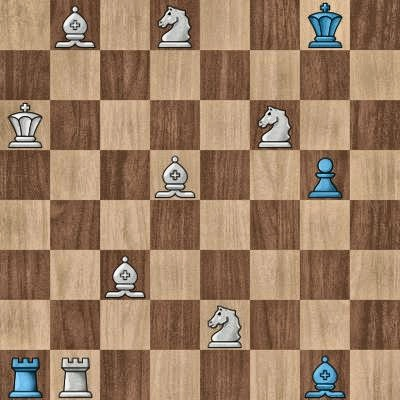black-bishop: (300, 350, 350, 400)
black-king: (300, 0, 350, 50)
black-pawn: (300, 150, 350, 200)
black-rook: (0, 350, 50, 400)
white-bishop: (50, 0, 100, 50), (150, 150, 200, 200), (100, 250, 150, 300)
white-king: (0, 100, 50, 150)
white-knight: (150, 0, 200, 50), (250, 100, 300, 150), (200, 300, 250, 350)
white-rook: (50, 350, 100, 400)
